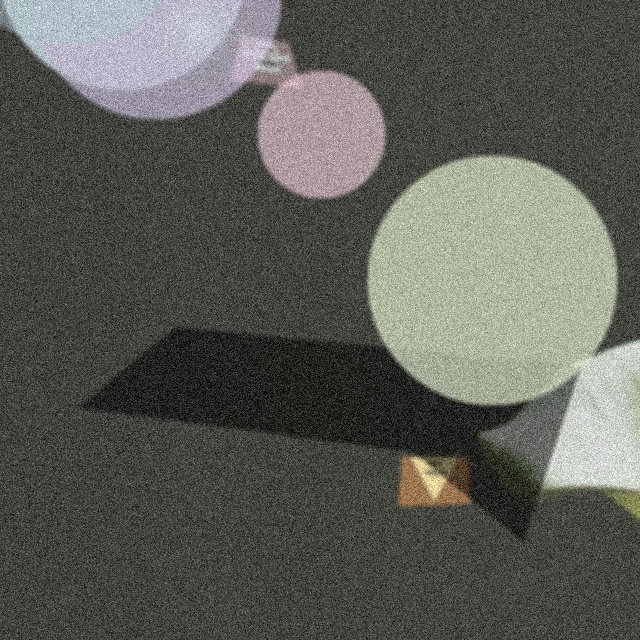DO_NOT_GO_AROUND: (237, 36, 301, 82)
NOT_YIELD: (406, 456, 461, 504)
